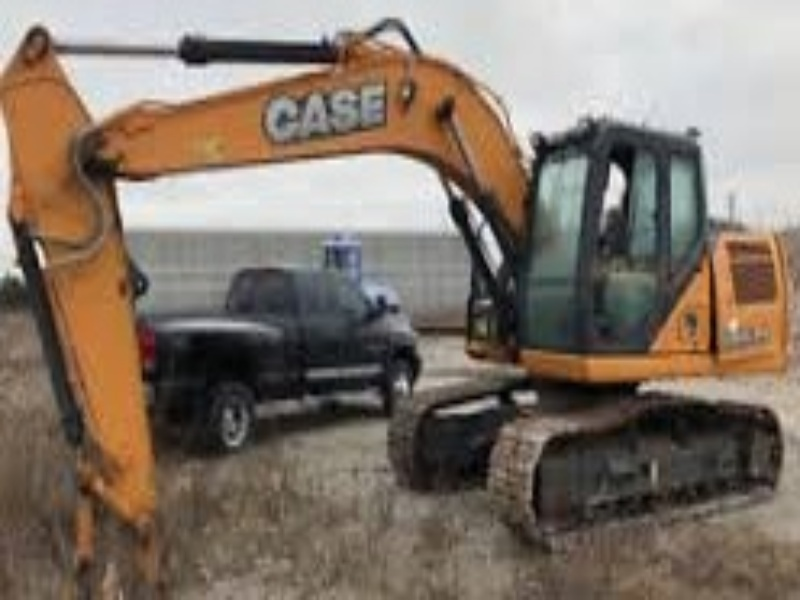wajueji: (365, 48, 800, 537)
